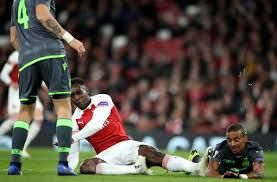fall: (184, 119, 270, 179)
